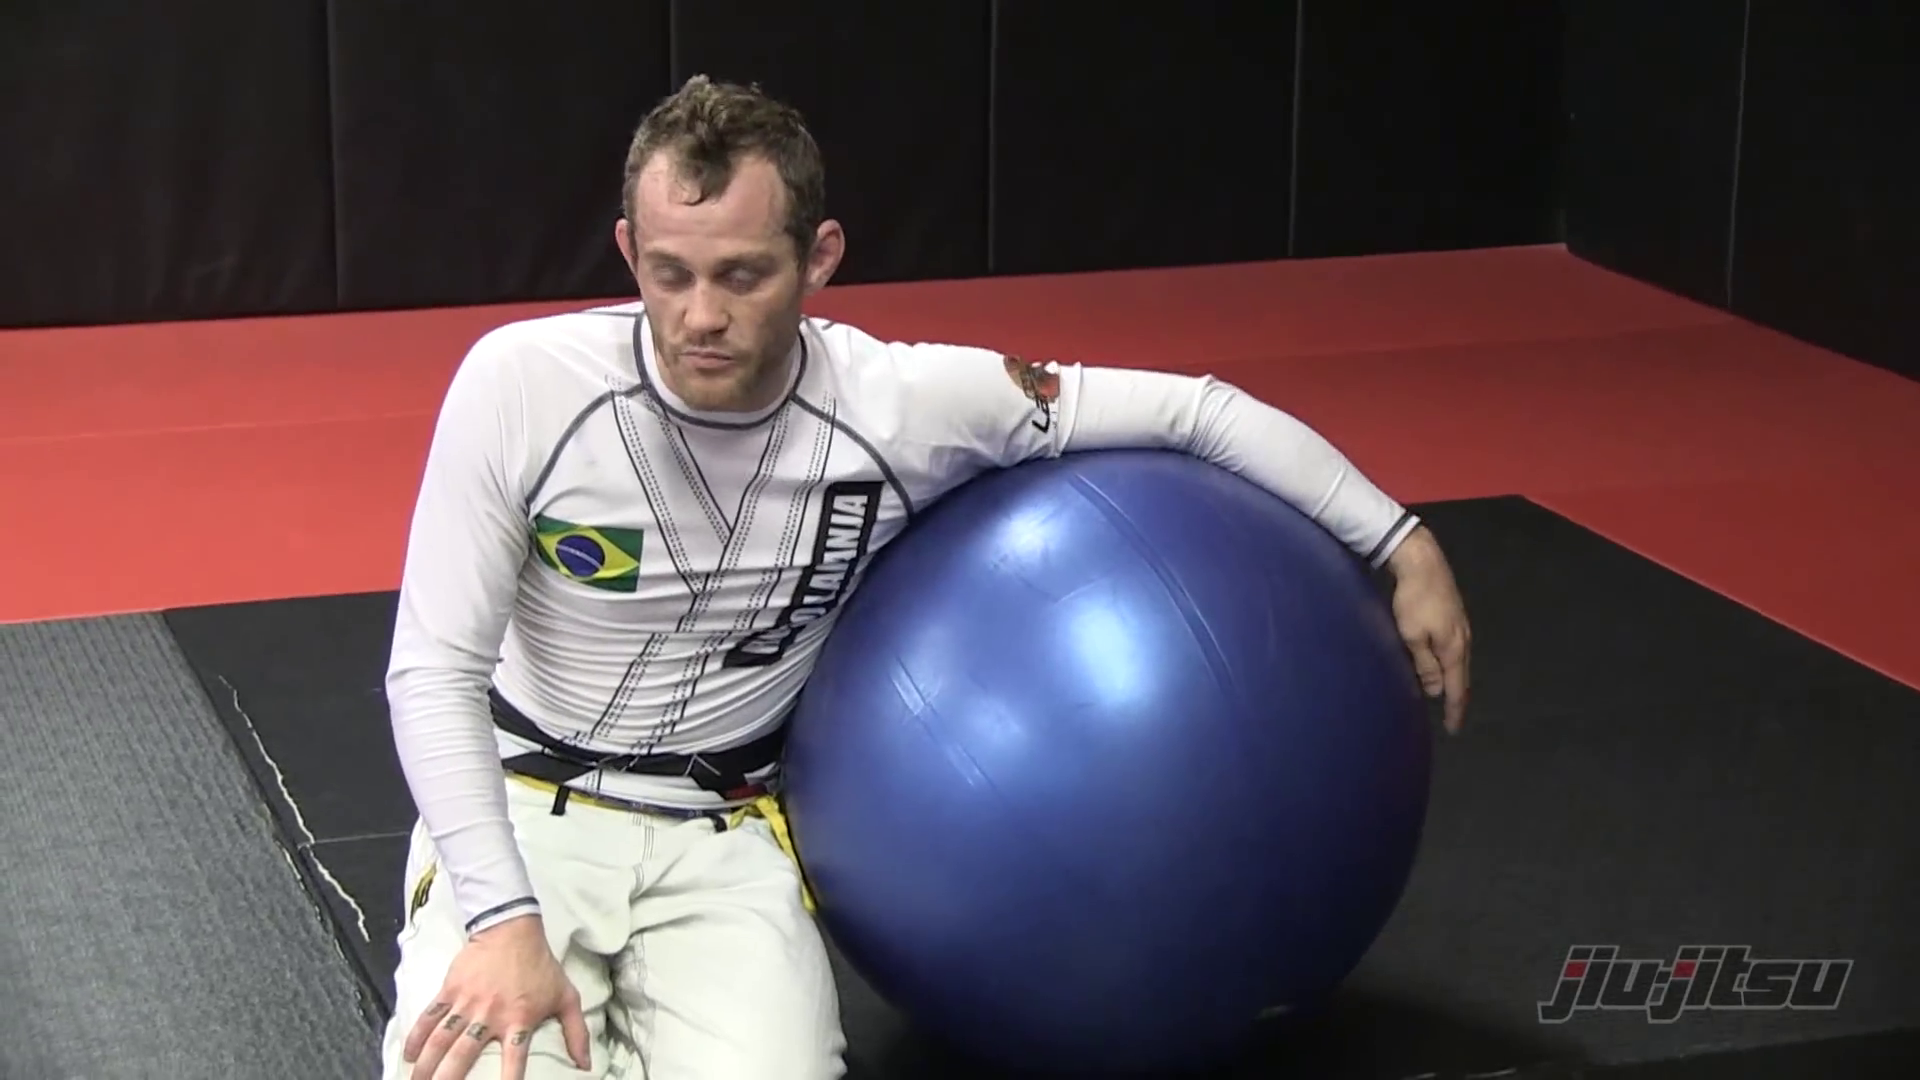yogaball: (789, 427, 1503, 1068)
